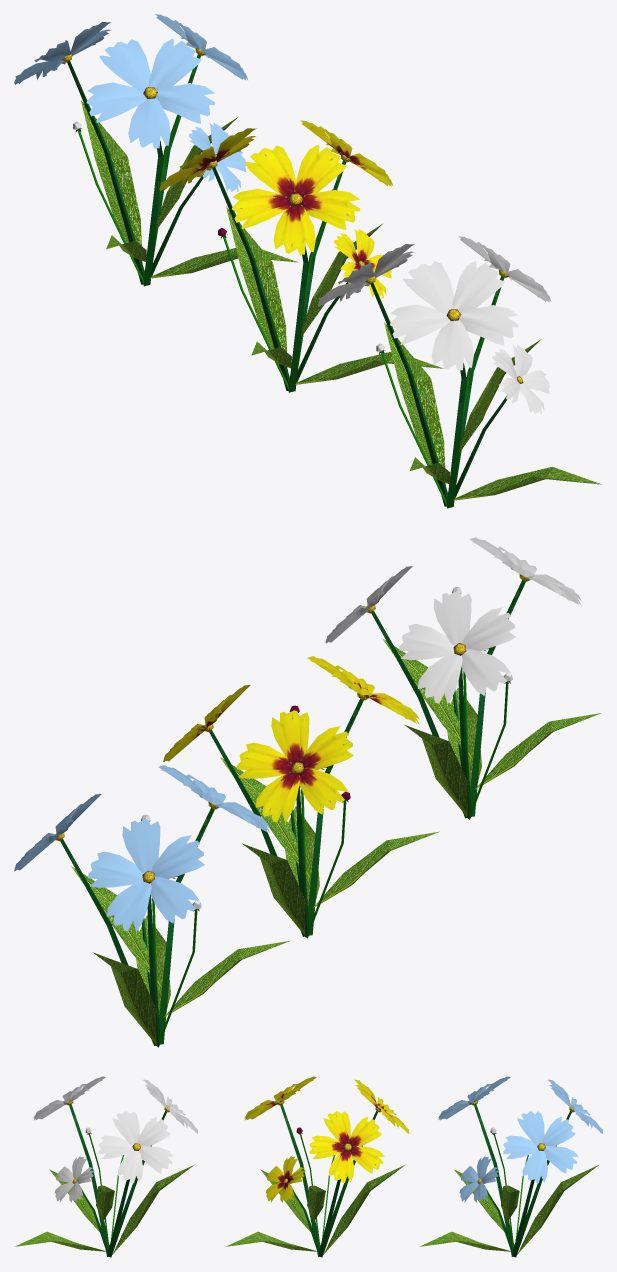
The model's file is flower_coreopsis.glb.
The picture shows the model from 3 angles, top to bottom: view 1: azimuth 30°, elevation 25°; view 2: azimuth 150°, elevation 25°; view 3: azimuth 270°, elevation 25°; orthographic projection. The views are drawn at different scales.
Parts seen in each view (by area): view 1: Circle.008, Circle.003, Circle.015; view 2: Circle.008, Circle.015, Circle.003; view 3: Circle.008, Circle.003, Circle.015.
Part boxes in pixels (x1,y1,x2,y2): Circle.008: [317, 236, 601, 508]; Circle.003: [159, 120, 443, 392]; Circle.015: [14, 14, 298, 286]; Circle.008: [325, 537, 601, 819]; Circle.015: [14, 765, 290, 1047]; Circle.003: [163, 656, 439, 938]; Circle.008: [14, 1076, 198, 1257]; Circle.003: [225, 1076, 409, 1257]; Circle.015: [419, 1076, 602, 1257].
Size of the model in its own units: 1.44 by 1.77 by 5.55.
9 materials, 4 textured.
